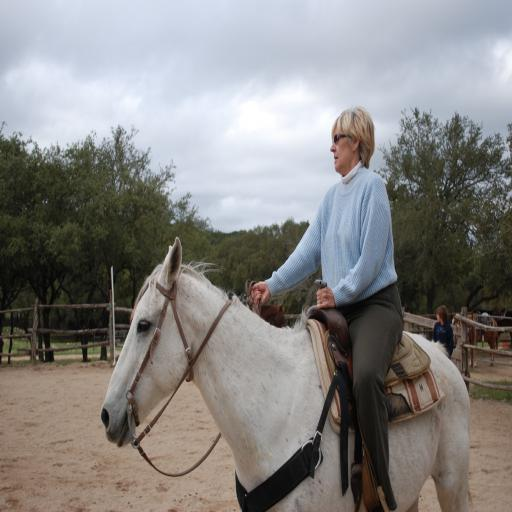Horse: (100, 232, 474, 512), (451, 308, 499, 366)
